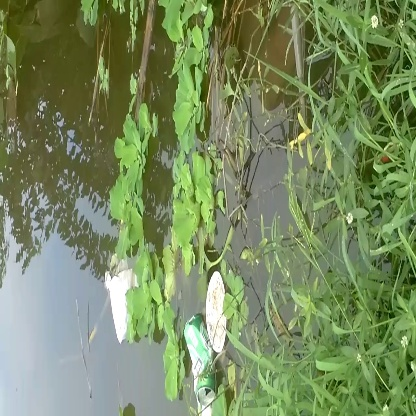bottle: (178, 316, 225, 406)
